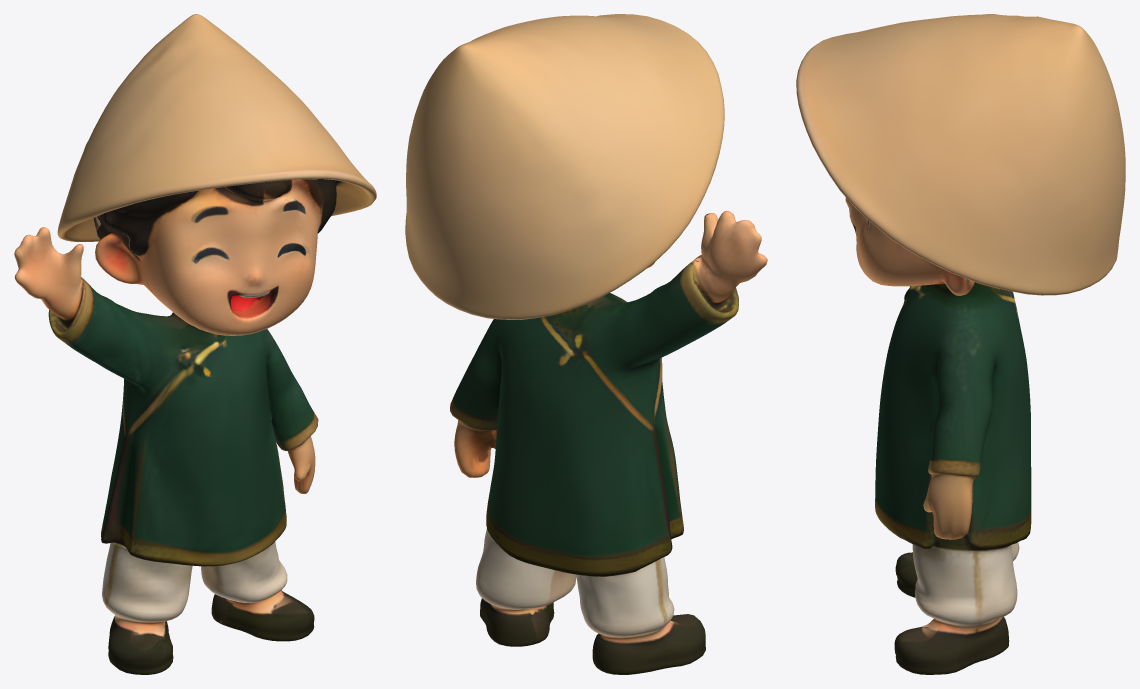
The model's file is sac-co-do-guide-v3.glb.
The picture shows the model from 3 angles, left to right: view 1: azimuth 30°, elevation 25°; view 2: azimuth 150°, elevation 25°; view 3: azimuth 270°, elevation 25°; orthographic projection. The views are drawn at different scales.
Visible parts, largest first — view 1: CoDo_Wave_Versioned; view 2: CoDo_Wave_Versioned; view 3: CoDo_Wave_Versioned.
Part boxes in pixels (x1=…): CoDo_Wave_Versioned: x1=14, y1=14, x2=376, y2=674; CoDo_Wave_Versioned: x1=405, y1=14, x2=767, y2=674; CoDo_Wave_Versioned: x1=796, y1=14, x2=1125, y2=674.
Bounding box in the file's own units: 1.13 × 1.91 × 0.9105.
1 material, 1 textured.
